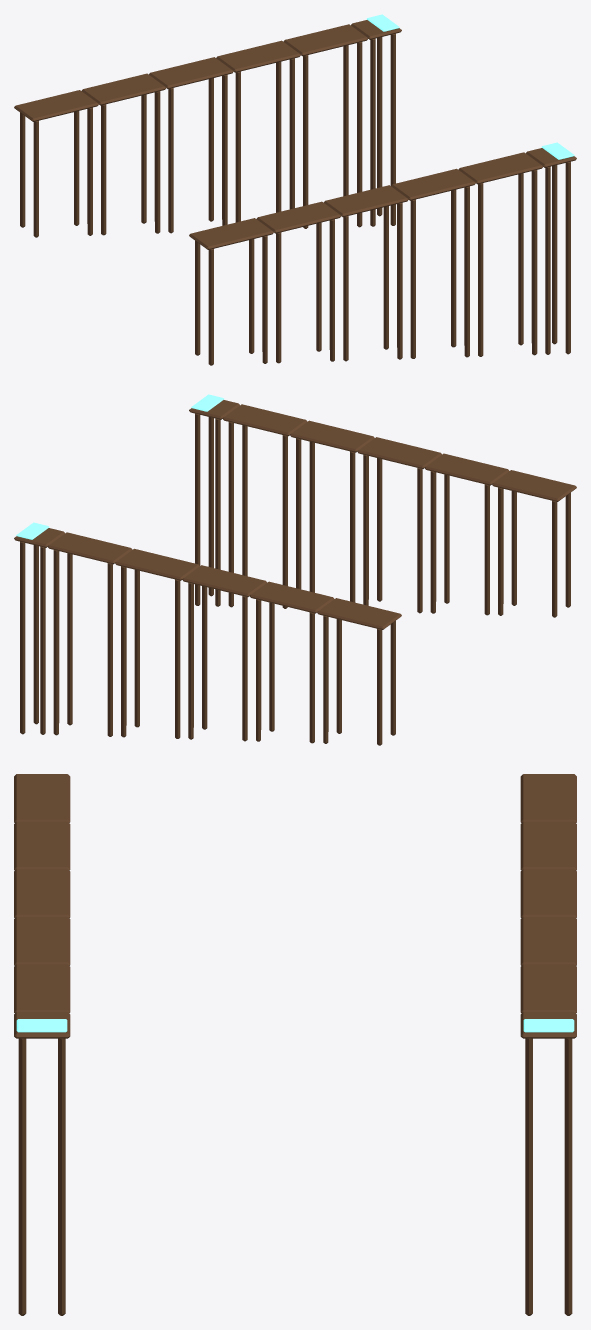
Rendered from DD_Docks.fbx.
The picture shows the model from 3 angles, top to bottom: view 1: azimuth 30°, elevation 25°; view 2: azimuth 150°, elevation 25°; view 3: azimuth 270°, elevation 25°; orthographic projection. The views are drawn at different scales.
Parts seen in each view (by area): view 1: DD_Dock_South_Mod04.001, DD_Dock_South_Mod03.001, DD_Dock_North_Mod03.001, DD_Dock_South_Mod00.001, DD_Dock_North_Mod00.001, DD_Dock_North_Mod04.001, DD_Dock_South_Mod02.001, DD_Dock_North_Mod02.001, DD_Dock_South_Mod05.001, DD_Dock_North_Mod01.001, DD_Dock_South_Mod01.001, DD_Dock_North_Mod05.001; view 2: DD_Dock_North_Mod04.001, DD_Dock_North_Mod03.001, DD_Dock_South_Mod03.001, DD_Dock_North_Mod00.001, DD_Dock_South_Mod00.001, DD_Dock_South_Mod04.001, DD_Dock_North_Mod02.001, DD_Dock_South_Mod02.001, DD_Dock_North_Mod05.001, DD_Dock_South_Mod01.001, DD_Dock_North_Mod01.001, DD_Dock_South_Mod05.001; view 3: DD_Dock_North_Mod05.001, DD_Dock_South_Mod05.001, DD_Dock_North_Mod01.001, DD_Dock_South_Mod01.001, DD_Dock_North_Mod03.001, DD_Dock_South_Mod03.001, DD_Dock_North_Mod00.001, DD_Dock_South_Mod00.001, DD_Dock_North_Mod02.001, DD_Dock_North_Mod04.001, DD_Dock_South_Mod02.001, DD_Dock_South_Mod04.001 (+2 smaller).
Boxes of the visible parts, x1=… form: DD_Dock_South_Mod04.001: x1=458, y1=152, x2=543, y2=356; DD_Dock_South_Mod03.001: x1=391, y1=168, x2=475, y2=358; DD_Dock_North_Mod03.001: x1=216, y1=40, x2=300, y2=222; DD_Dock_South_Mod00.001: x1=189, y1=218, x2=273, y2=365; DD_Dock_North_Mod00.001: x1=14, y1=90, x2=98, y2=237; DD_Dock_North_Mod04.001: x1=283, y1=24, x2=368, y2=228; DD_Dock_South_Mod02.001: x1=324, y1=185, x2=408, y2=361; DD_Dock_North_Mod02.001: x1=149, y1=57, x2=233, y2=233; DD_Dock_South_Mod05.001: x1=526, y1=148, x2=576, y2=354; DD_Dock_North_Mod01.001: x1=81, y1=73, x2=166, y2=235; DD_Dock_South_Mod01.001: x1=256, y1=201, x2=340, y2=363; DD_Dock_North_Mod05.001: x1=351, y1=20, x2=401, y2=226; DD_Dock_North_Mod04.001: x1=47, y1=532, x2=132, y2=736; DD_Dock_North_Mod03.001: x1=115, y1=548, x2=199, y2=738; DD_Dock_South_Mod03.001: x1=290, y1=420, x2=374, y2=602; DD_Dock_North_Mod00.001: x1=317, y1=598, x2=401, y2=745; DD_Dock_South_Mod00.001: x1=492, y1=470, x2=576, y2=617; DD_Dock_South_Mod04.001: x1=222, y1=404, x2=307, y2=608; DD_Dock_North_Mod02.001: x1=182, y1=565, x2=266, y2=741; DD_Dock_South_Mod02.001: x1=357, y1=437, x2=441, y2=613; DD_Dock_North_Mod05.001: x1=14, y1=528, x2=64, y2=734; DD_Dock_South_Mod01.001: x1=424, y1=453, x2=509, y2=615; DD_Dock_North_Mod01.001: x1=250, y1=581, x2=334, y2=743; DD_Dock_South_Mod05.001: x1=189, y1=400, x2=239, y2=606; DD_Dock_North_Mod05.001: x1=520, y1=1012, x2=576, y2=1315; DD_Dock_South_Mod05.001: x1=14, y1=1012, x2=70, y2=1315; DD_Dock_North_Mod01.001: x1=520, y1=821, x2=576, y2=870; DD_Dock_South_Mod01.001: x1=14, y1=821, x2=70, y2=870; DD_Dock_North_Mod03.001: x1=520, y1=917, x2=576, y2=965; DD_Dock_South_Mod03.001: x1=14, y1=917, x2=70, y2=965; DD_Dock_North_Mod00.001: x1=520, y1=774, x2=576, y2=822; DD_Dock_South_Mod00.001: x1=14, y1=774, x2=70, y2=822; DD_Dock_North_Mod02.001: x1=520, y1=869, x2=576, y2=917; DD_Dock_North_Mod04.001: x1=520, y1=964, x2=576, y2=1013; DD_Dock_South_Mod02.001: x1=14, y1=869, x2=70, y2=917; DD_Dock_South_Mod04.001: x1=14, y1=964, x2=70, y2=1013.
Bounding box in the file's own units: 1.1 × 0.5652 × 1.
